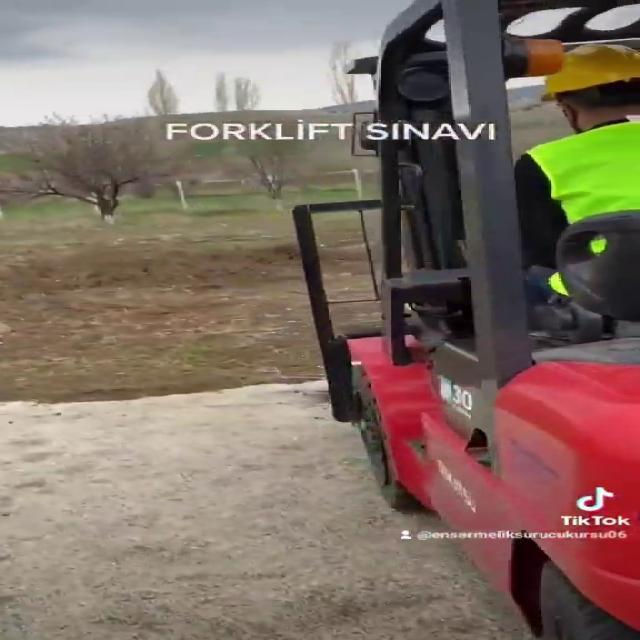forklift: (329, 1, 639, 640)
